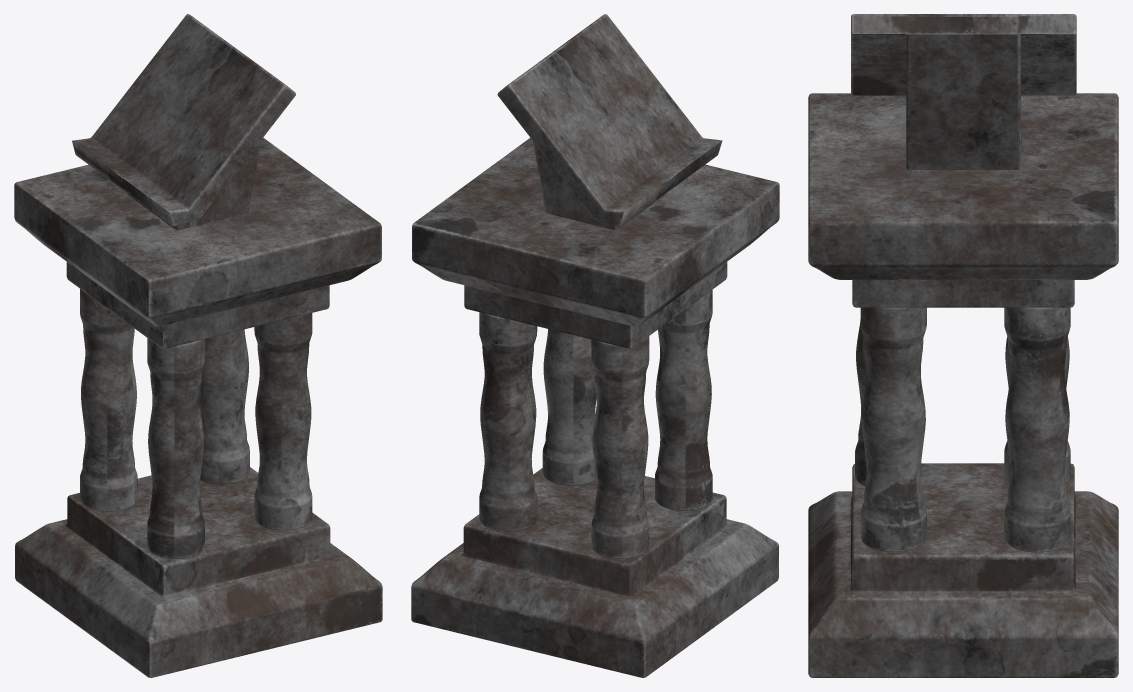
File: lectern texture.fbx
3 views of the same model, side by side, from view 1: azimuth 30°, elevation 25°; view 2: azimuth 150°, elevation 25°; view 3: azimuth 270°, elevation 25° (orthographic). The views are drawn at different scales.
Visible parts, largest first — view 1: polySurface6; view 2: polySurface6; view 3: polySurface6.
Part boxes in pixels (<box>): polySurface6: <box>14,14,382,677</box>; polySurface6: <box>411,14,779,677</box>; polySurface6: <box>808,14,1118,677</box>.
Size of the model in its own units: 0.6891 by 1.52 by 0.6868.
2 materials, 2 textured.
